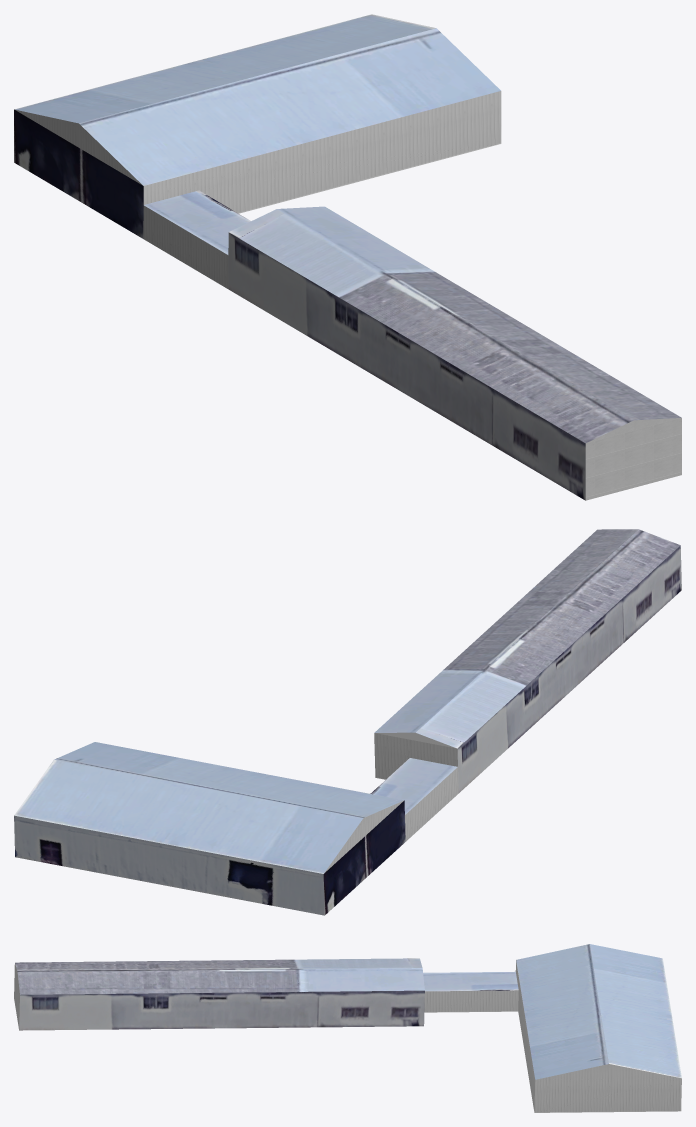
File: Lecu_aisaanexo1.gltf
3 renders of one model, top to bottom at view 1: azimuth 30°, elevation 25°; view 2: azimuth 150°, elevation 25°; view 3: azimuth 270°, elevation 25°, orthographic. The views are drawn at different scales.
Parts seen in each view (by area): view 1: aisa_anexo1; view 2: aisa_anexo1; view 3: aisa_anexo1.
Part boxes in pixels (x1=…): aisa_anexo1: x1=14, y1=14, x2=681, y2=500; aisa_anexo1: x1=14, y1=529, x2=681, y2=915; aisa_anexo1: x1=14, y1=944, x2=681, y2=1112.
Bounding box in the file's own units: 35.49 × 8.07 × 83.29.
